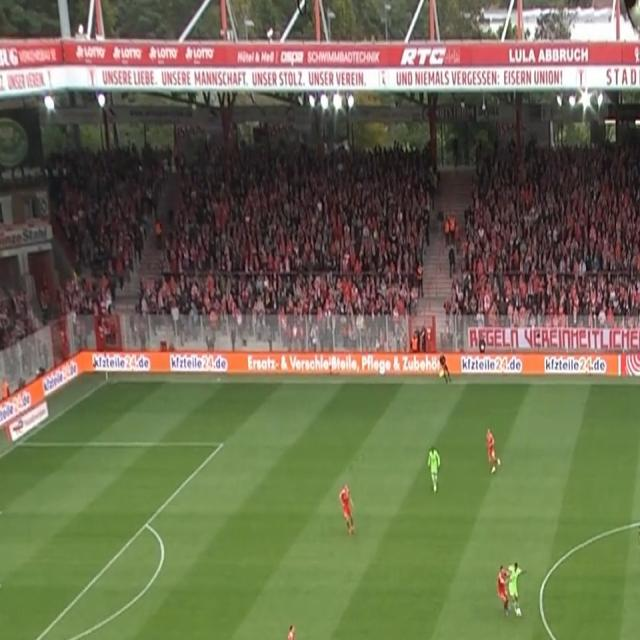ball: (516, 607, 522, 618)
